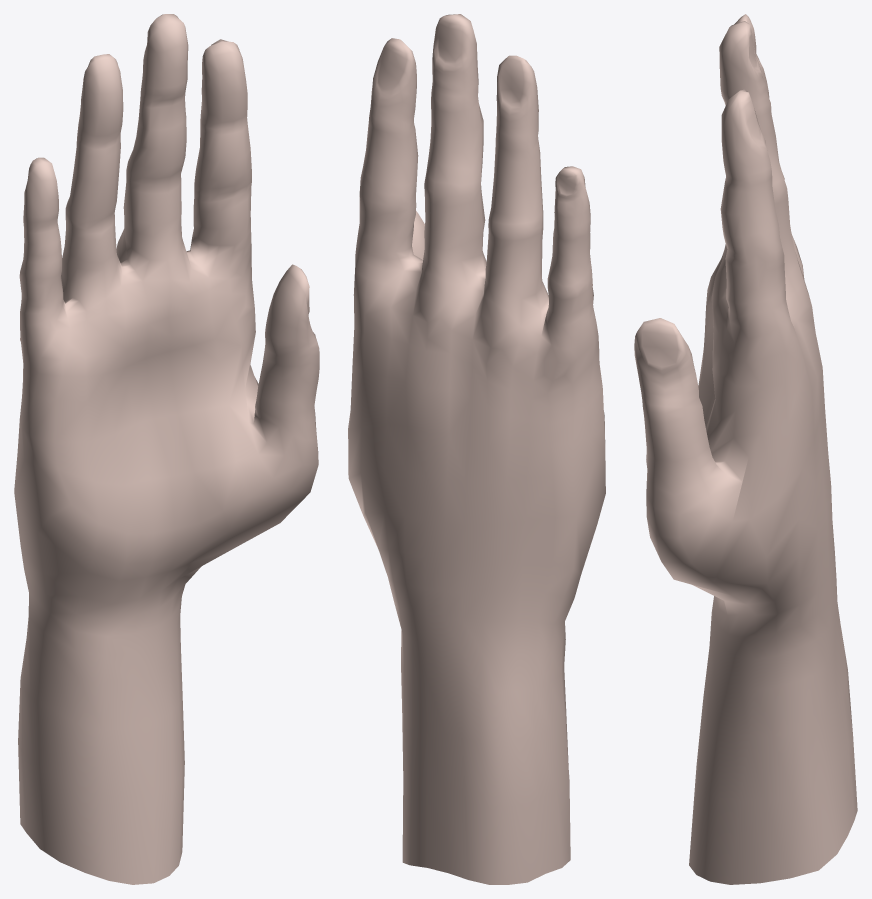
Rendered from hand.fbx.
3 views of the same model, side by side, from view 1: azimuth 30°, elevation 25°; view 2: azimuth 150°, elevation 25°; view 3: azimuth 270°, elevation 25° (orthographic). The views are drawn at different scales.
Visible parts, largest first — view 1: Hand; view 2: Hand; view 3: Hand.
Boxes of the visible parts, left/top/right/bottom form: Hand: left=14, top=14, right=319, bottom=884; Hand: left=348, top=14, right=605, bottom=884; Hand: left=634, top=14, right=857, bottom=884.
Size of the model in its own units: 2.31 by 7.05 by 1.65.
